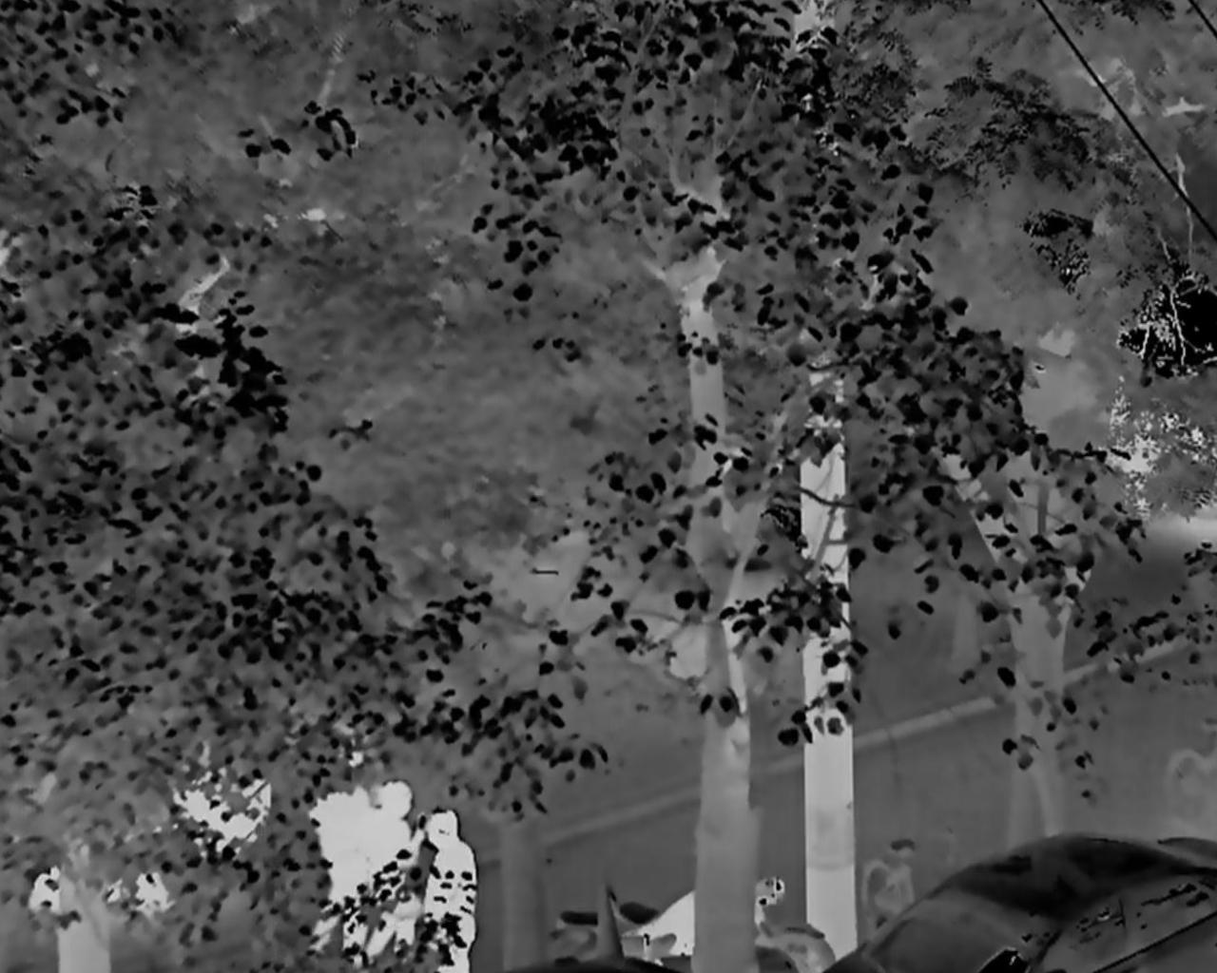person: (355, 779, 420, 966), (308, 783, 368, 957), (422, 806, 482, 973)
